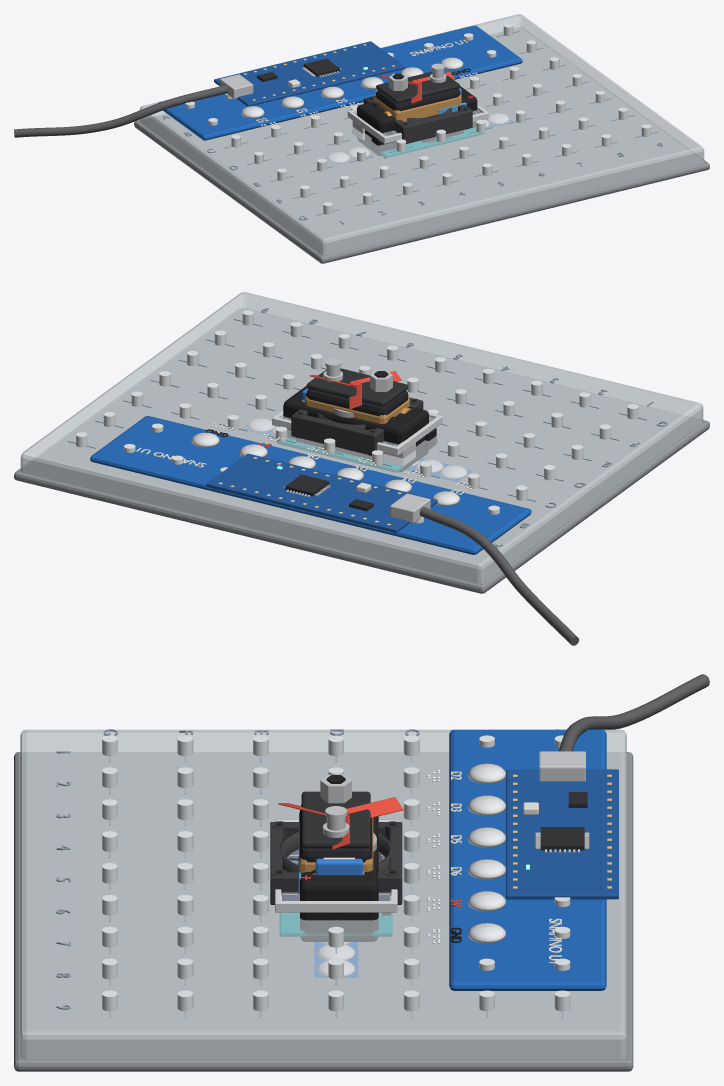
The model's file is makerspace_parts.glb.
3 renders of one model, top to bottom at view 1: azimuth 30°, elevation 25°; view 2: azimuth 150°, elevation 25°; view 3: azimuth 270°, elevation 25°, orthographic. The views are drawn at different scales.
Parts seen in each view (by area): view 1: snap_base_plate, snap_base_frame, snapino_carrier, snapino_nano_pcb, snapino_usb_cable, vent-fan_frame00.38, snap-b1_holder, battery-9v_cap, battery-9v_band, battery-9v_can, farm-controller_pcb, snapino_usb (+1 smaller); view 2: snap_base_plate, snap_base_frame, snapino_carrier, snapino_nano_pcb, snap-b1_holder, snapino_usb_cable, vent-fan_frame0-0.38, battery-9v_cap, battery-9v_can, snapino_usb, battery-9v_band, farm-controller_pcb (+1 smaller); view 3: snap_base_plate, snap_base_frame, snapino_carrier, snapino_nano_pcb, snap-b1_holder, battery-9v_cap, snapino_usb_cable, solar-panel_frame0.610, snapino_usb, snapino_mcu, battery-9v_can, vent-fan_venturi (+13 smaller).
Boxes of the visible parts, left/top/right/bottom form: snap_base_plate: left=139, top=14, right=704, bottom=255; snap_base_frame: left=134, top=27, right=709, bottom=263; snapino_carrier: left=158, top=25, right=522, bottom=140; snapino_nano_pcb: left=214, top=41, right=404, bottom=106; snapino_usb_cable: left=14, top=85, right=227, bottom=137; vent-fan_frame00.38: left=403, top=109, right=472, bottom=142; snap-b1_holder: left=357, top=86, right=477, bottom=155; battery-9v_cap: left=376, top=71, right=460, bottom=103; battery-9v_band: left=374, top=94, right=461, bottom=121; battery-9v_can: left=376, top=88, right=460, bottom=117; farm-controller_pcb: left=352, top=127, right=484, bottom=157; snapino_usb: left=220, top=74, right=253, bottom=98; snap_base_plate: left=20, top=292, right=703, bottom=583; snap_base_frame: left=14, top=308, right=709, bottom=593; snapino_carrier: left=90, top=416, right=531, bottom=554; snapino_nano_pcb: left=206, top=453, right=437, bottom=532; snap-b1_holder: left=283, top=386, right=428, bottom=471; snapino_usb_cable: left=419, top=506, right=579, bottom=645; vent-fan_frame0-0.38: left=291, top=413, right=378, bottom=454; battery-9v_cap: left=306, top=368, right=408, bottom=406; battery-9v_can: left=306, top=388, right=408, bottom=416; snapino_usb: left=390, top=493, right=430, bottom=523; battery-9v_band: left=305, top=396, right=409, bottom=423; farm-controller_pcb: left=277, top=438, right=437, bottom=472; snap_base_plate: left=20, top=729, right=626, bottom=1059; snap_base_frame: left=14, top=752, right=633, bottom=1071; snapino_carrier: left=449, top=729, right=606, bottom=990; snapino_nano_pcb: left=506, top=769, right=618, bottom=899; snap-b1_holder: left=300, top=816, right=378, bottom=941; battery-9v_cap: left=301, top=791, right=370, bottom=848; snapino_usb_cable: left=559, top=674, right=709, bottom=751; solar-panel_frame0.610: left=275, top=901, right=396, bottom=912; snapino_usb: left=539, top=751, right=585, bottom=781; snapino_mcu: left=540, top=827, right=584, bottom=850; battery-9v_can: left=300, top=804, right=372, bottom=862; vent-fan_venturi: left=279, top=831, right=392, bottom=872.
Size of the model in its own units: 5.89 by 1.21 by 4.43.
